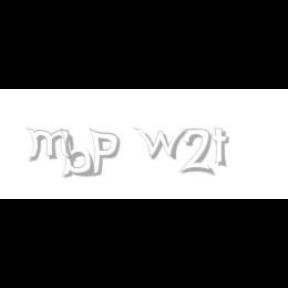2: (179, 128, 213, 176)
P: (88, 128, 120, 178)
b: (60, 128, 98, 178)
m: (25, 128, 77, 162)
t: (212, 128, 234, 168)
w: (134, 128, 192, 160)
